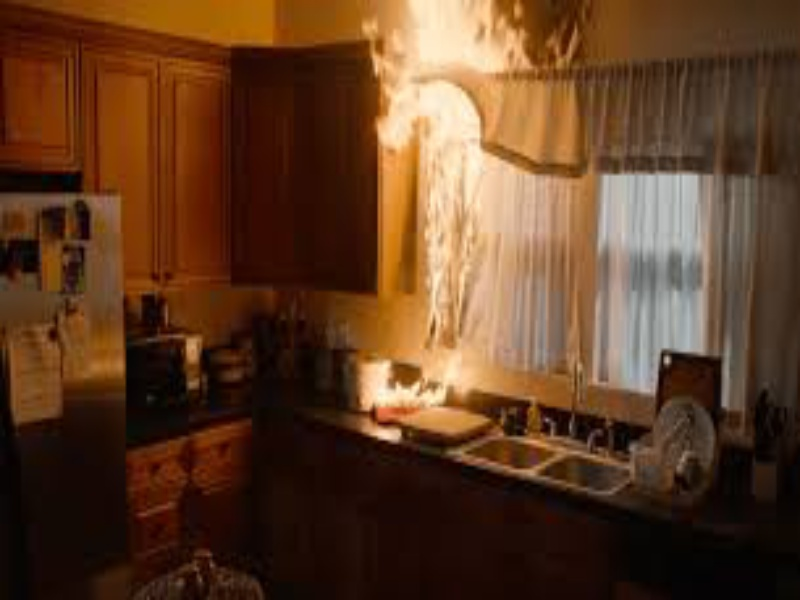fire: (383, 5, 499, 362), (371, 369, 455, 422)
